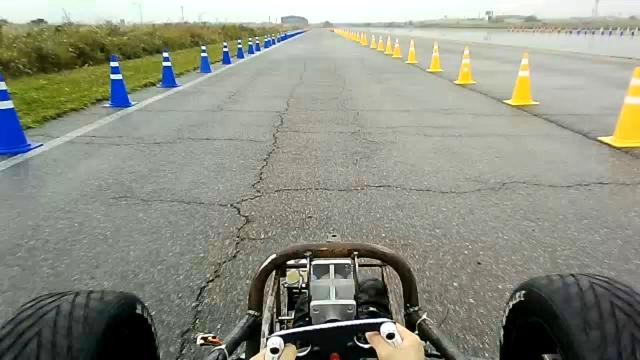blue cone: (0, 71, 43, 156), (102, 54, 136, 108), (155, 47, 182, 88), (196, 44, 212, 73), (221, 40, 231, 64), (236, 38, 244, 58), (247, 38, 255, 54)
yellow cone: (597, 66, 639, 148), (502, 52, 540, 106), (453, 45, 476, 85), (426, 41, 443, 72), (405, 38, 418, 63), (392, 37, 402, 58), (384, 36, 393, 54), (376, 36, 385, 52), (369, 34, 377, 49)
